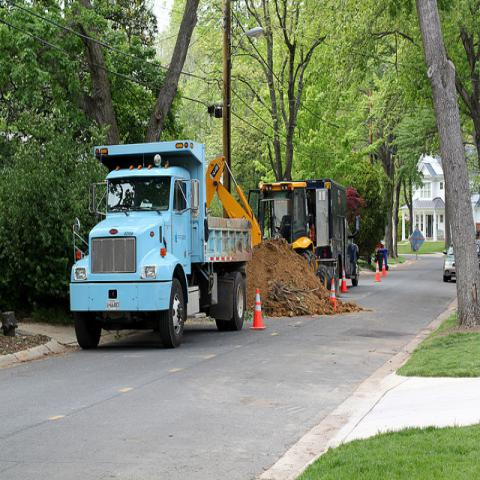car: (442, 238, 480, 284)
truck: (70, 142, 252, 352), (307, 178, 359, 286)
